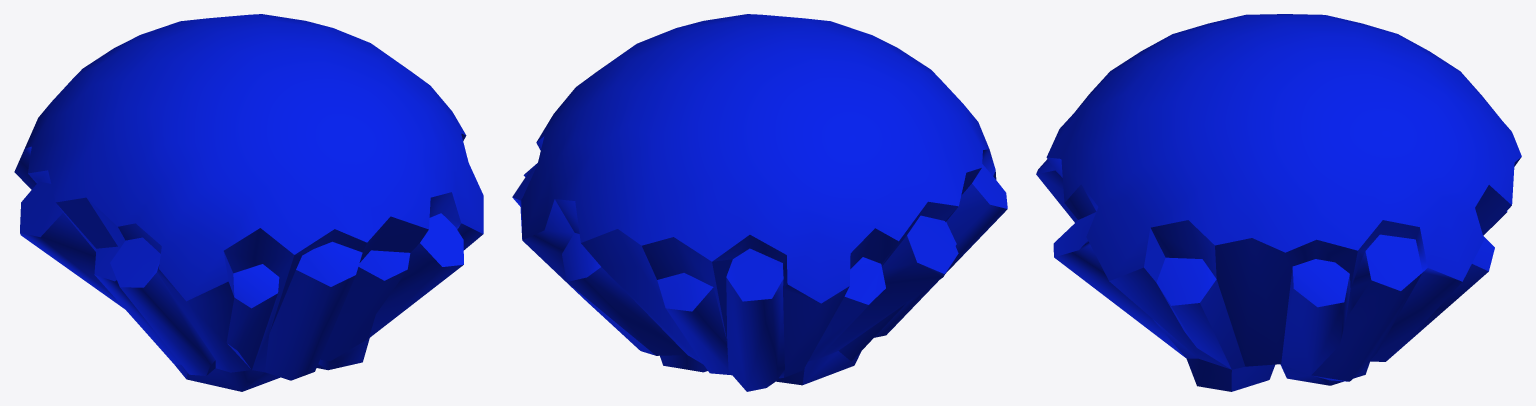
File: obj_resource_refinedsapphire.fbx
3 views of the same model, side by side, from view 1: azimuth 30°, elevation 25°; view 2: azimuth 150°, elevation 25°; view 3: azimuth 270°, elevation 25° (orthographic). The views are drawn at different scales.
Parts seen in each view (by area): view 1: refinedsapphire_lp.002; view 2: refinedsapphire_lp.002; view 3: refinedsapphire_lp.002.
Part boxes in pixels (x1=…): refinedsapphire_lp.002: x1=14, y1=14, x2=483, y2=391; refinedsapphire_lp.002: x1=512, y1=14, x2=1007, y2=391; refinedsapphire_lp.002: x1=1036, y1=14, x2=1521, y2=391.
Bounding box in the file's own units: 4.21 × 3.01 × 4.22.
